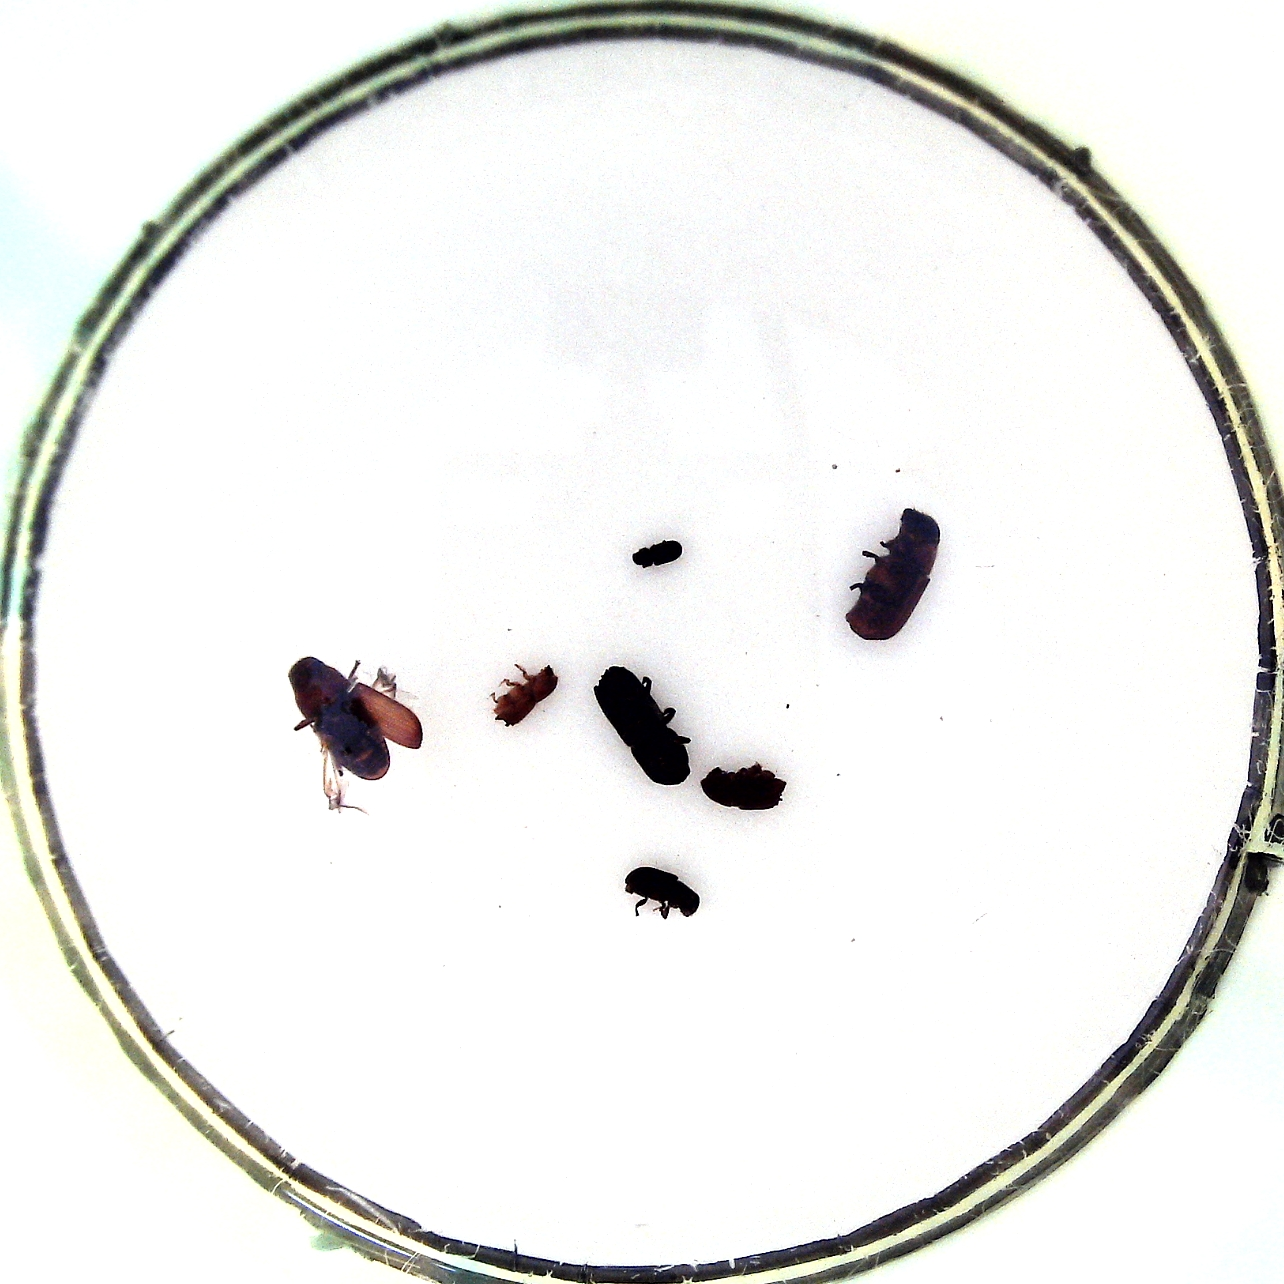Boerner: (593, 664, 691, 791)
Leconte: (286, 651, 426, 815), (836, 502, 944, 648)
Linnaeus: (700, 753, 785, 815)
acuminatus: (486, 660, 560, 733)
armandi: (614, 860, 705, 925)
coleoptera: (623, 537, 690, 579)
